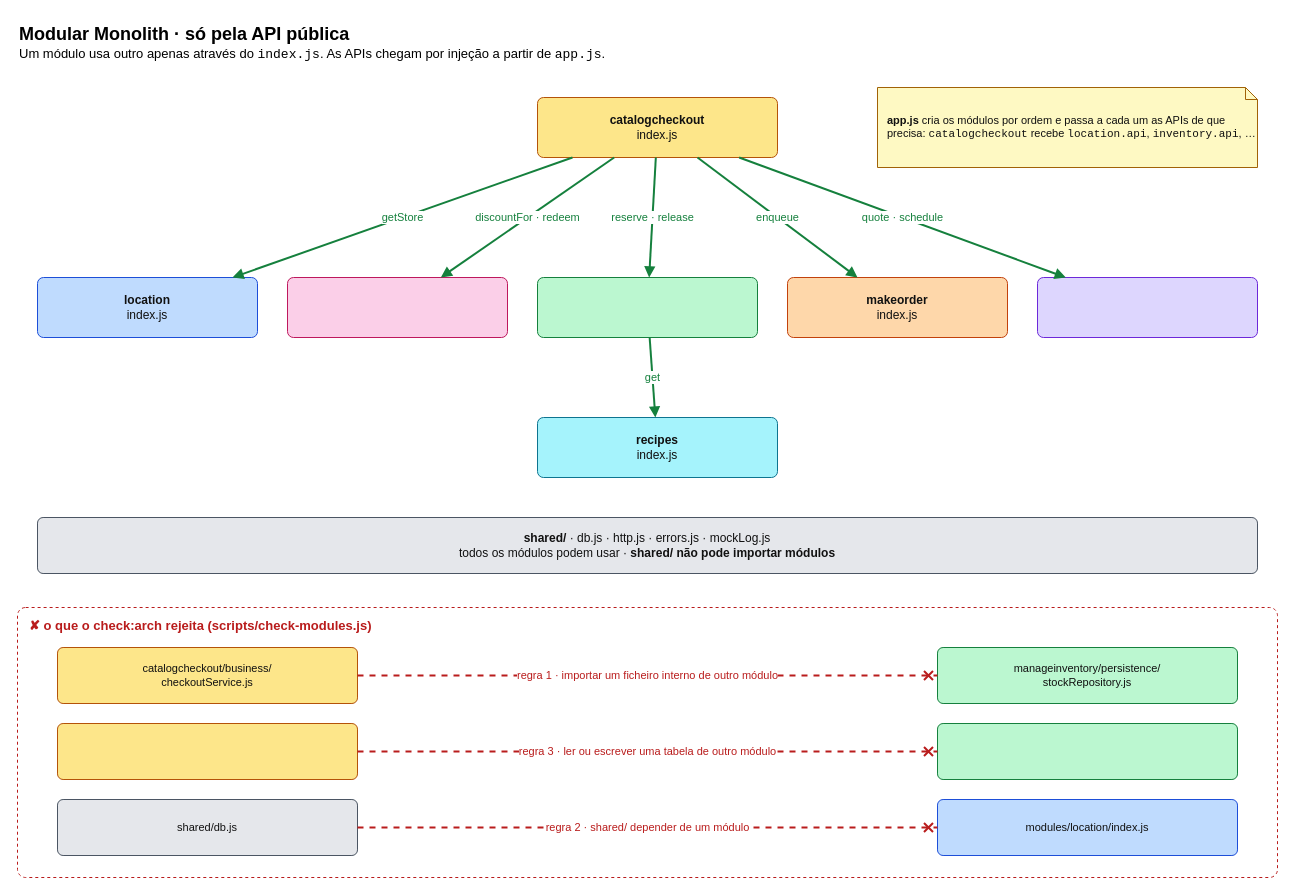
The diagram is 1295 pixels wide and 895 high, and some of its shapes have lost their labels. The centre of each missing label's shape, as x and y in pixels:
"catalogcheckout/persistence/ orderRepository.js" goes at pixel 207 751.
"delivery index.js" goes at pixel 1147 307.
"manageinventory index.js" goes at pixel 647 307.
"promotion index.js" goes at pixel 397 307.
"tabela inventory_stock_level" goes at pixel 1087 751.
